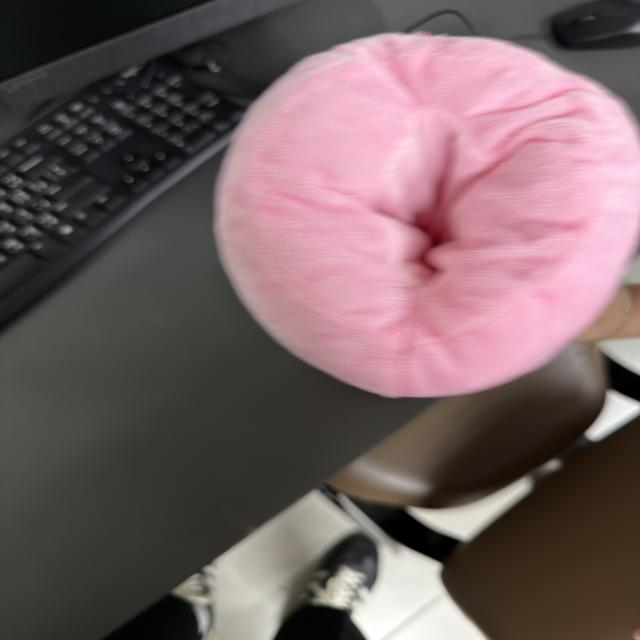pinkpillow: (216, 33, 640, 400)
